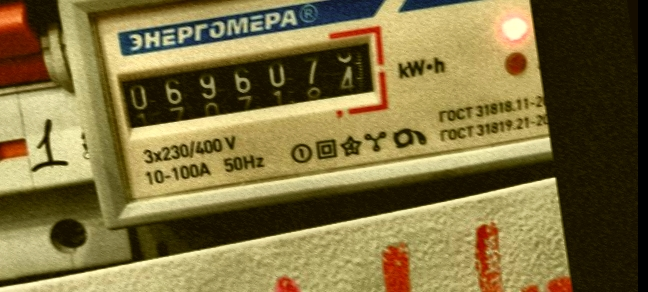0: (125, 79, 150, 112), (264, 56, 288, 88)
4: (333, 62, 356, 93)
6: (159, 73, 185, 106), (230, 63, 253, 93)
7: (299, 52, 320, 84)
9: (196, 69, 218, 100)
screen: (98, 18, 393, 148)
